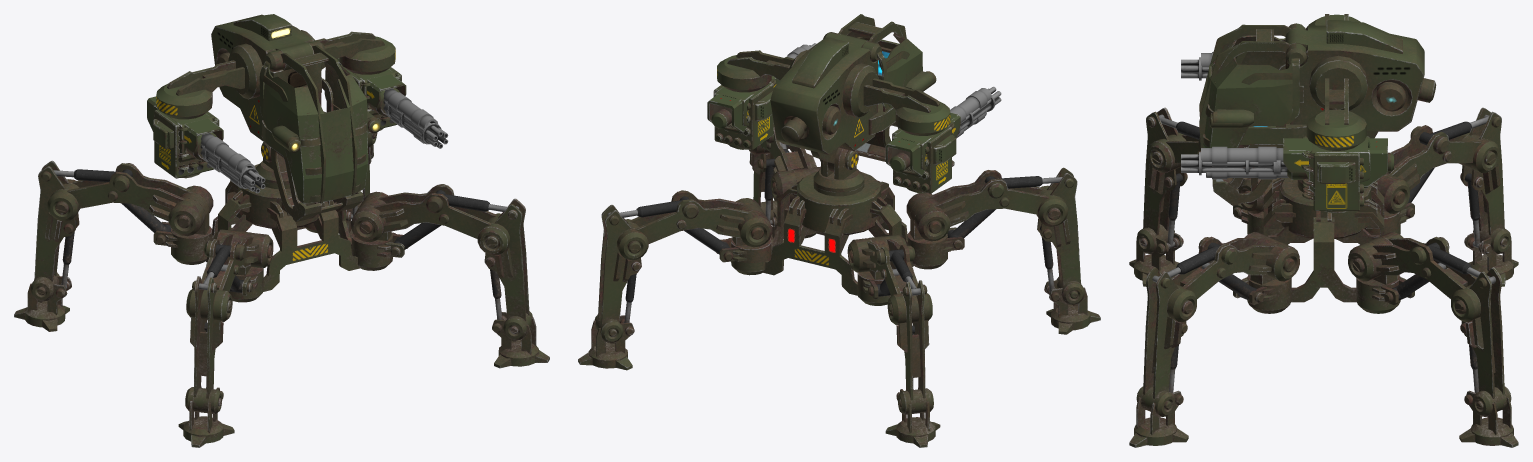
Rendered from SM_LightQuadrupedMech_SplitIntoPieces.fbx.
3 renders of one model, left to right at view 1: azimuth 30°, elevation 25°; view 2: azimuth 150°, elevation 25°; view 3: azimuth 270°, elevation 25°, orthographic. The views are drawn at different scales.
Parts seen in each view (by area): view 1: SM_LightQuadrupedMech_Split35, SM_LightQuadrupedMech_Split5, SM_LightQuadrupedMech_Split1, SM_LightQuadrupedMech_Split32, SM_LightQuadrupedMech_Split17, SM_LightQuadrupedMech_Split3, SM_LightQuadrupedMech_Split36, SM_LightQuadrupedMech_Split26, SM_LightQuadrupedMech_Split19, SM_LightQuadrupedMech_Split27, SM_LightQuadrupedMech_Split33, SM_LightQuadrupedMech_Split2 (+17 smaller); view 2: SM_LightQuadrupedMech_Split1, SM_LightQuadrupedMech_Split5, SM_LightQuadrupedMech_Split26, SM_LightQuadrupedMech_Split9, SM_LightQuadrupedMech_Split3, SM_LightQuadrupedMech_Split32, SM_LightQuadrupedMech_Split11, SM_LightQuadrupedMech_Split33, SM_LightQuadrupedMech_Split27, SM_LightQuadrupedMech_Split35, SM_LightQuadrupedMech_Split2, SM_LightQuadrupedMech_Split38 (+20 smaller); view 3: SM_LightQuadrupedMech_Split1, SM_LightQuadrupedMech_Split5, SM_LightQuadrupedMech_Split35, SM_LightQuadrupedMech_Split9, SM_LightQuadrupedMech_Split17, SM_LightQuadrupedMech_Split2, SM_LightQuadrupedMech_Split32, SM_LightQuadrupedMech_Split19, SM_LightQuadrupedMech_Split11, SM_LightQuadrupedMech_Split41, SM_LightQuadrupedMech_Split36, SM_LightQuadrupedMech_Split40 (+21 smaller).
Boxes of the visible parts, left/top/right/bottom form: SM_LightQuadrupedMech_Split35: left=263, top=40, right=381, bottom=203; SM_LightQuadrupedMech_Split5: left=171, top=164, right=392, bottom=302; SM_LightQuadrupedMech_Split1: left=211, top=14, right=363, bottom=221; SM_LightQuadrupedMech_Split32: left=47, top=163, right=213, bottom=236; SM_LightQuadrupedMech_Split17: left=350, top=184, right=509, bottom=255; SM_LightQuadrupedMech_Split3: left=156, top=43, right=262, bottom=119; SM_LightQuadrupedMech_Split36: left=259, top=45, right=379, bottom=203; SM_LightQuadrupedMech_Split26: left=186, top=229, right=273, bottom=321; SM_LightQuadrupedMech_Split19: left=484, top=198, right=531, bottom=327; SM_LightQuadrupedMech_Split27: left=190, top=276, right=223, bottom=413; SM_LightQuadrupedMech_Split33: left=34, top=160, right=79, bottom=284; SM_LightQuadrupedMech_Split2: left=301, top=30, right=395, bottom=74; SM_LightQuadrupedMech_Split1: left=770, top=34, right=899, bottom=171; SM_LightQuadrupedMech_Split5: left=731, top=171, right=947, bottom=305; SM_LightQuadrupedMech_Split26: left=906, top=170, right=1067, bottom=241; SM_LightQuadrupedMech_Split9: left=617, top=190, right=772, bottom=260; SM_LightQuadrupedMech_Split3: left=842, top=63, right=950, bottom=135; SM_LightQuadrupedMech_Split32: left=847, top=234, right=932, bottom=324; SM_LightQuadrupedMech_Split11: left=595, top=204, right=641, bottom=330; SM_LightQuadrupedMech_Split33: left=896, top=280, right=929, bottom=413; SM_LightQuadrupedMech_Split27: left=1036, top=167, right=1081, bottom=288; SM_LightQuadrupedMech_Split35: left=823, top=14, right=936, bottom=126; SM_LightQuadrupedMech_Split2: left=717, top=50, right=807, bottom=92; SM_LightQuadrupedMech_Split38: left=885, top=88, right=991, bottom=177; SM_LightQuadrupedMech_Split1: left=1212, top=20, right=1436, bottom=205; SM_LightQuadrupedMech_Split5: left=1247, top=178, right=1400, bottom=313; SM_LightQuadrupedMech_Split35: left=1203, top=23, right=1305, bottom=179; SM_LightQuadrupedMech_Split9: left=1348, top=232, right=1480, bottom=322; SM_LightQuadrupedMech_Split17: left=1167, top=232, right=1299, bottom=322; SM_LightQuadrupedMech_Split2: left=1306, top=55, right=1367, bottom=151; SM_LightQuadrupedMech_Split32: left=1372, top=125, right=1499, bottom=213; SM_LightQuadrupedMech_Split19: left=1141, top=267, right=1187, bottom=411; SM_LightQuadrupedMech_Split11: left=1460, top=267, right=1506, bottom=411; SM_LightQuadrupedMech_Split41: left=1201, top=138, right=1393, bottom=188; SM_LightQuadrupedMech_Split36: left=1199, top=25, right=1306, bottom=147; SM_LightQuadrupedMech_Split40: left=1302, top=136, right=1363, bottom=213.
Bounding box in the file's own units: 504 × 417 × 447.
